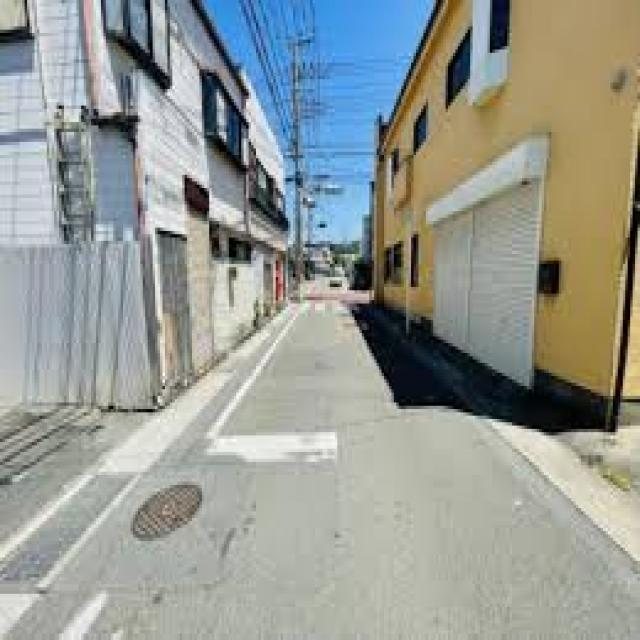manhole: (132, 484, 202, 540)
